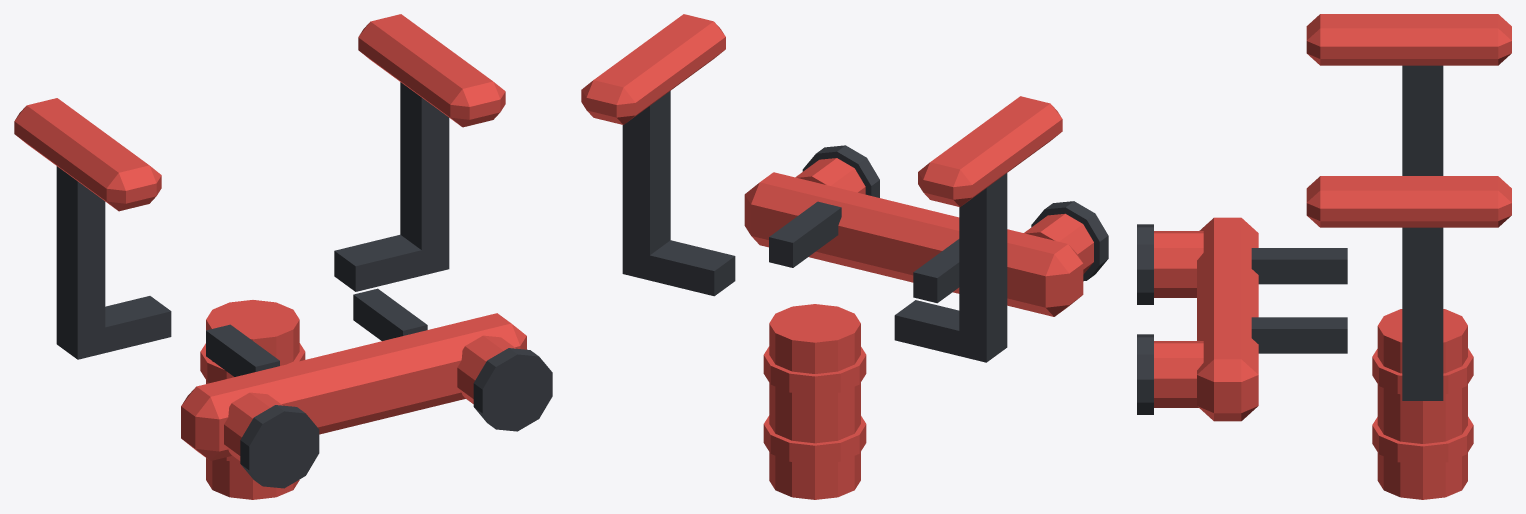
The model's file is chair_m0_2.glb.
3 views of the same model, side by side, from view 1: azimuth 30°, elevation 25°; view 2: azimuth 150°, elevation 25°; view 3: azimuth 270°, elevation 25° (orthographic). The views are drawn at different scales.
Visible parts, largest first — view 1: chair_m0_2_mesh; view 2: chair_m0_2_mesh; view 3: chair_m0_2_mesh.
Boxes of the visible parts, x1,y1,x2,y2 form: chair_m0_2_mesh: (14,14,552,499); chair_m0_2_mesh: (581,14,1108,499); chair_m0_2_mesh: (1137,14,1511,499).
Bounding box in the file's own units: 0.65 × 0.61 × 0.5475.
